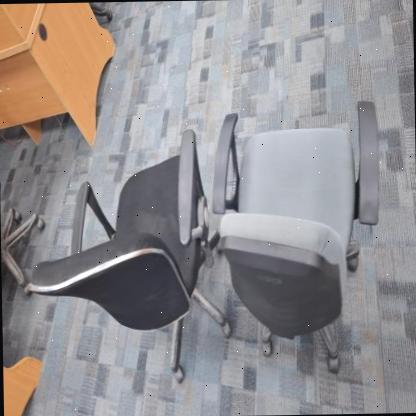chair: (12, 117, 237, 392), (204, 86, 392, 375)
